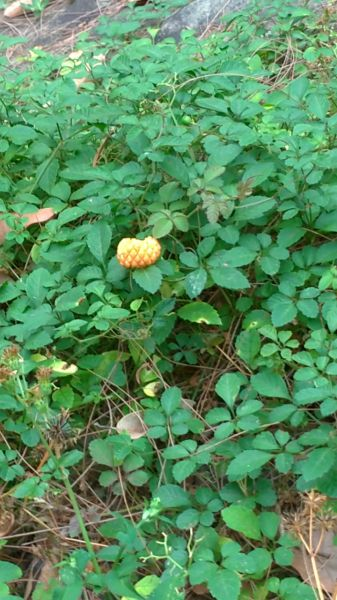eggs: (114, 232, 165, 273)
